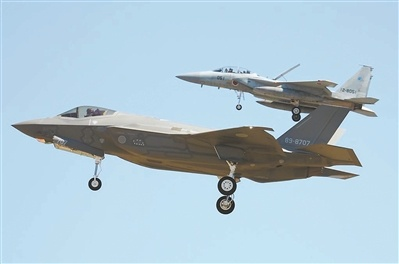airplane: (8, 99, 364, 214), (175, 59, 382, 122)
